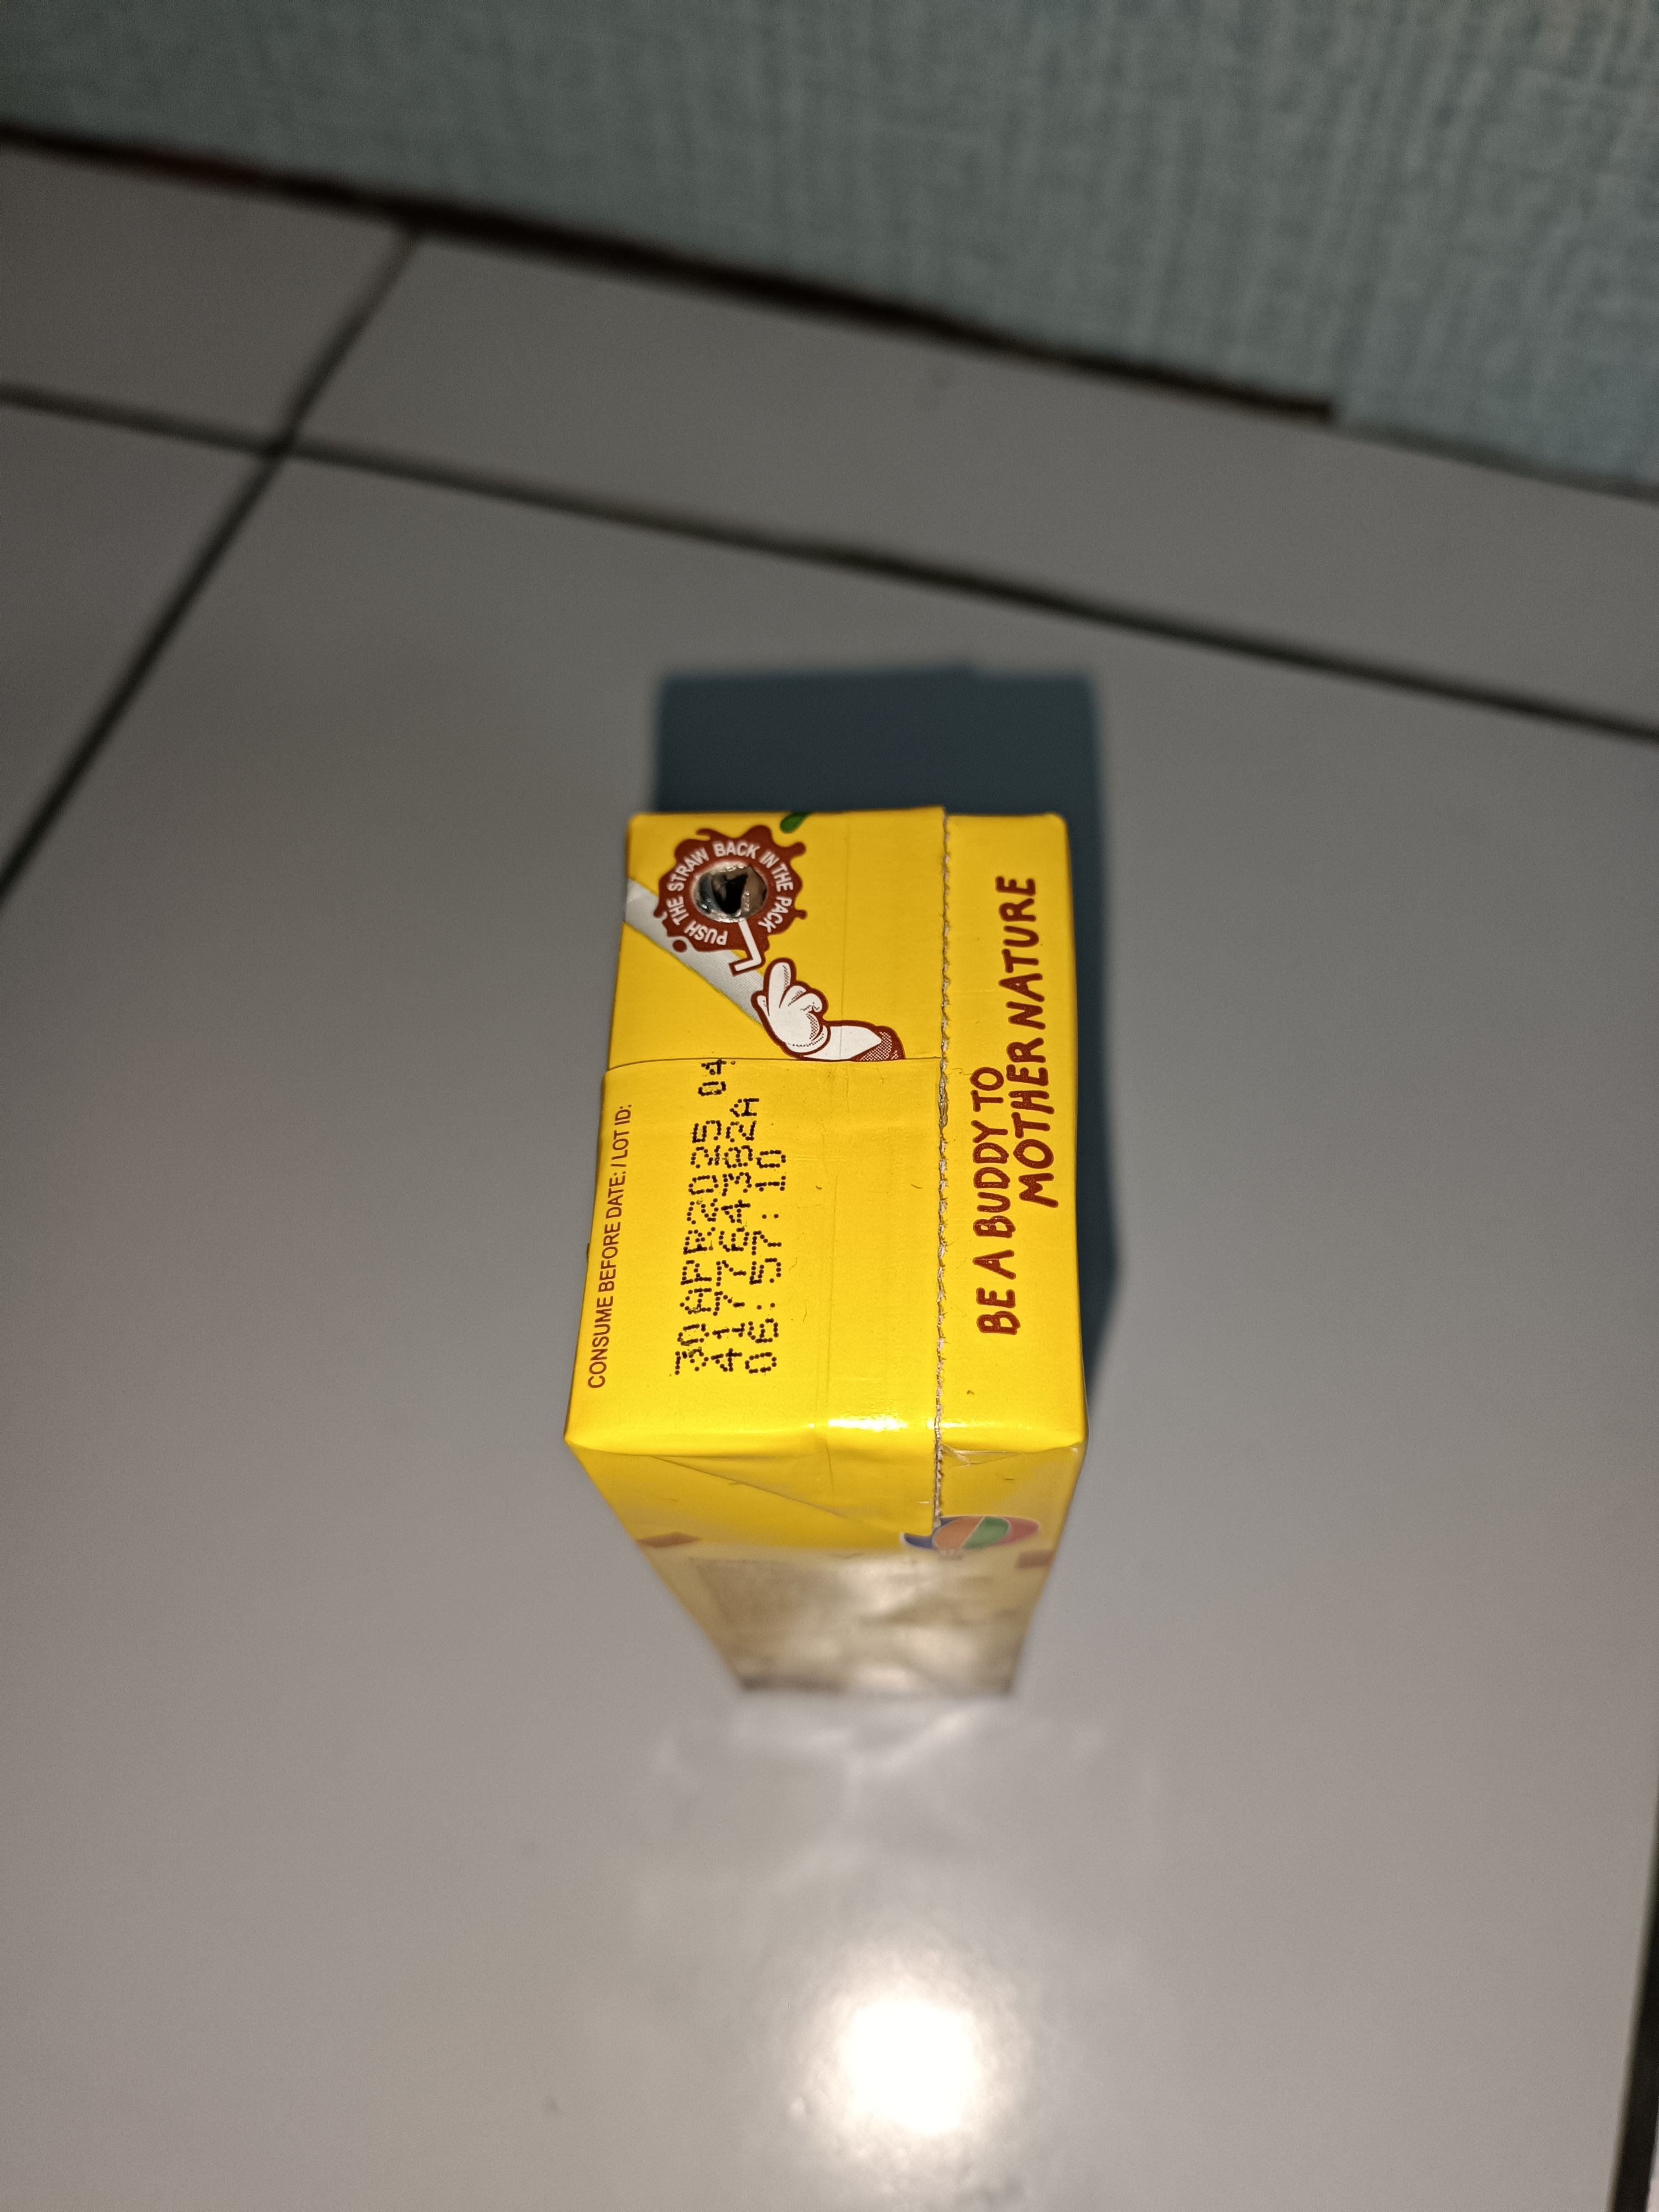Juice Box: (559, 752, 1073, 1792)
